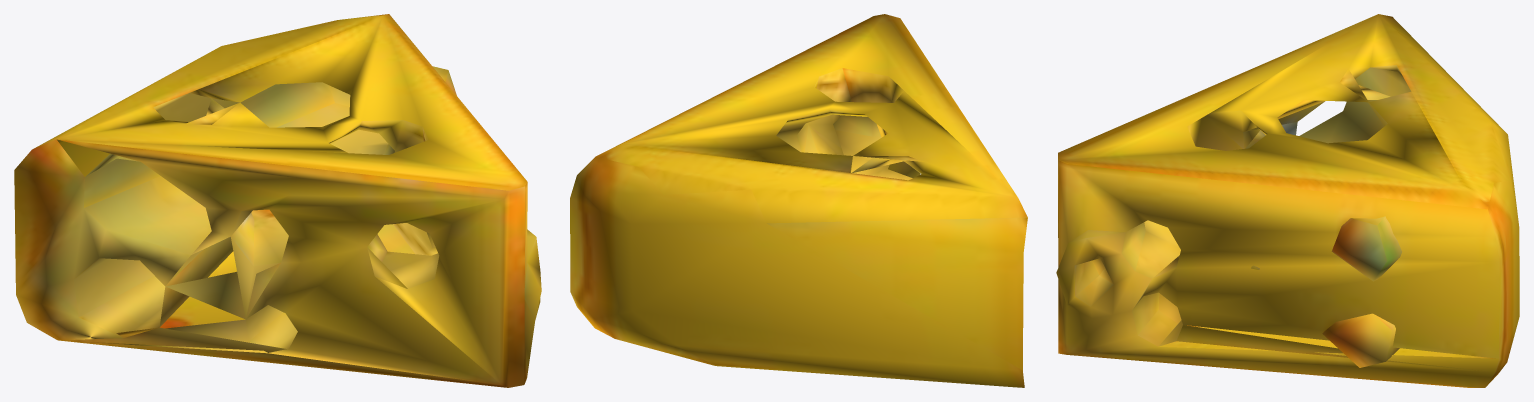
The model's file is cheese.glb.
3 renders of one model, left to right at view 1: azimuth 30°, elevation 25°; view 2: azimuth 150°, elevation 25°; view 3: azimuth 270°, elevation 25°, orthographic. The views are drawn at different scales.
Visible parts, largest first — view 1: cheese; view 2: cheese; view 3: cheese.
Boxes of the visible parts, x1=… form: cheese: x1=14, y1=14, x2=541, y2=387; cheese: x1=570, y1=14, x2=1027, y2=387; cheese: x1=1056, y1=14, x2=1519, y2=387.
Bounding box in the file's own units: 0.7 × 0.3102 × 0.6644.
1 material, 1 textured.
